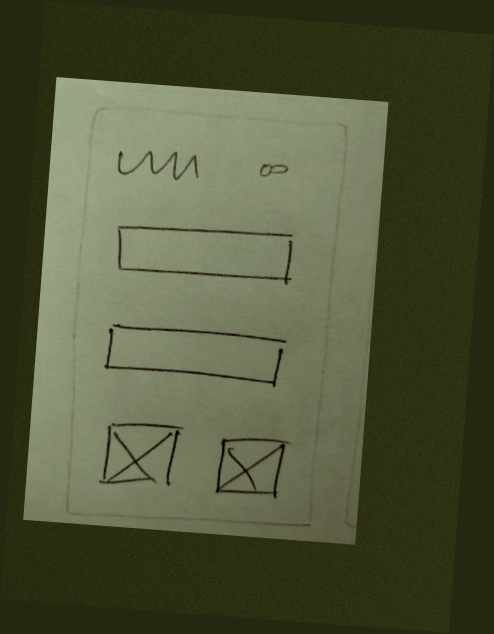image: (97, 413, 187, 498), (206, 430, 294, 506)
switch: (247, 152, 297, 188)
text: (109, 140, 206, 188)
text_input: (101, 214, 303, 296), (95, 317, 290, 393)
